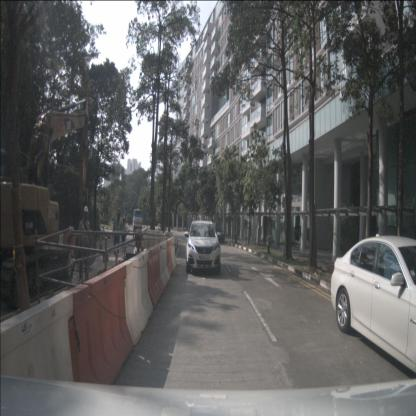movable_object-barrier: (58, 263, 134, 413), (0, 288, 76, 416), (114, 250, 155, 347), (140, 244, 165, 310), (155, 239, 173, 292), (140, 228, 165, 256), (63, 232, 88, 256), (162, 237, 175, 278), (166, 235, 178, 271)
vehicle-bus-rigid: (132, 209, 143, 231)
vehicle-car: (330, 233, 416, 375), (186, 220, 221, 274), (212, 227, 225, 244)
